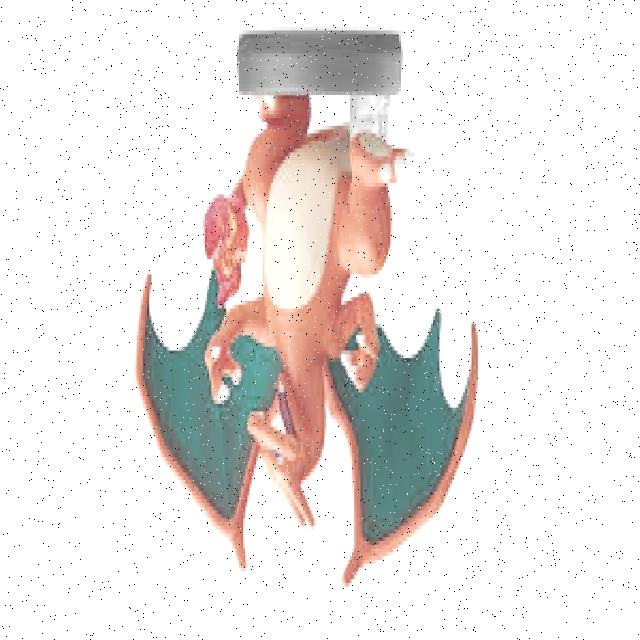charizard: (134, 88, 466, 596)
